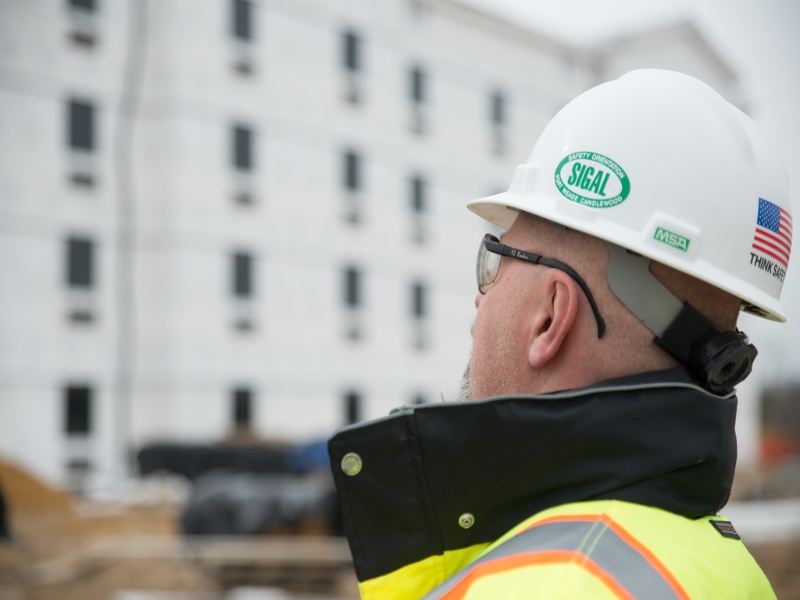Baret: (470, 69, 789, 246)
